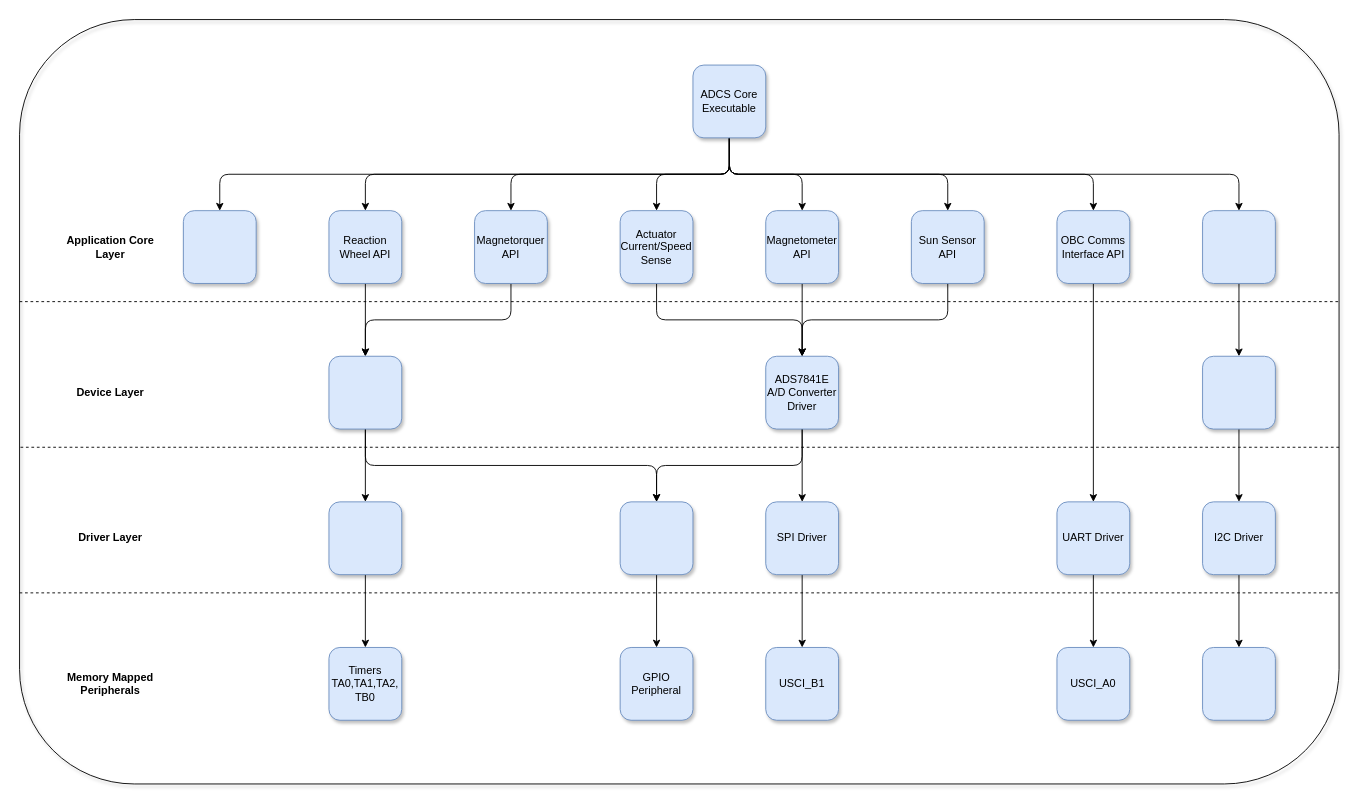
Some shapes in this 1360 by 806 pixel diagram are drawn without their labels. Here are the shapes that lost their labels. From the top down, the centre of each, then its label:
At (220,248): "JTOK JSON Parser".
At (1239,248): "IMU API".
At (365,393): "PWM Module".
At (1239,393): "Bosch SensorTech BMX160 Driver".
At (365,539): "Timer Peripheral Driver".
At (657,539): "GPIO Driver".
At (1239,685): "USCI_B0".
